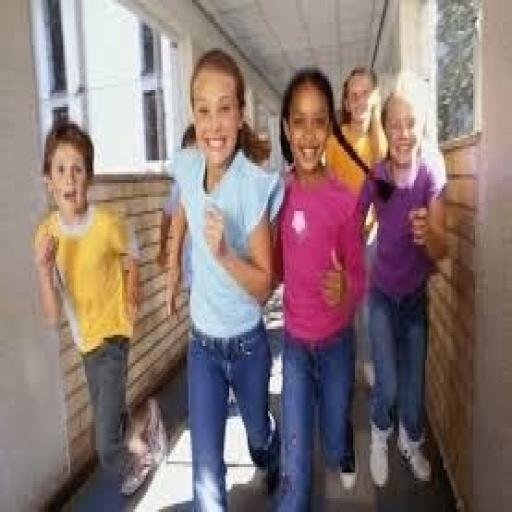running: (162, 48, 282, 509), (32, 118, 166, 498), (268, 65, 368, 509), (348, 88, 449, 492)
